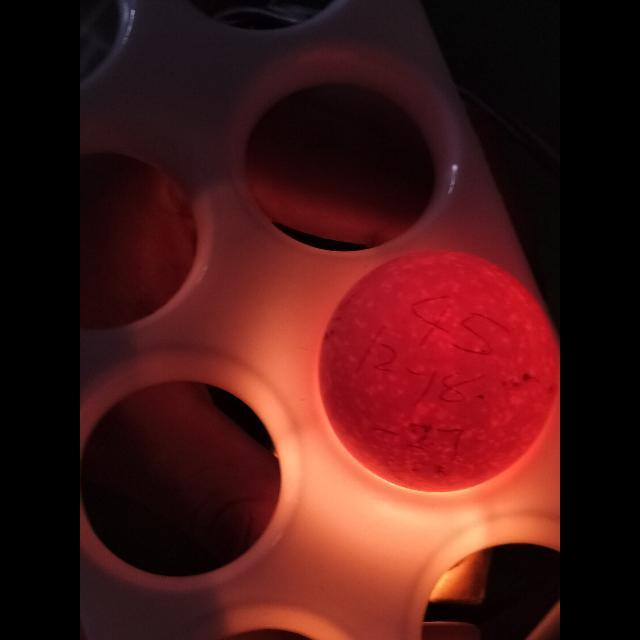Infertile: (318, 250, 560, 490)
